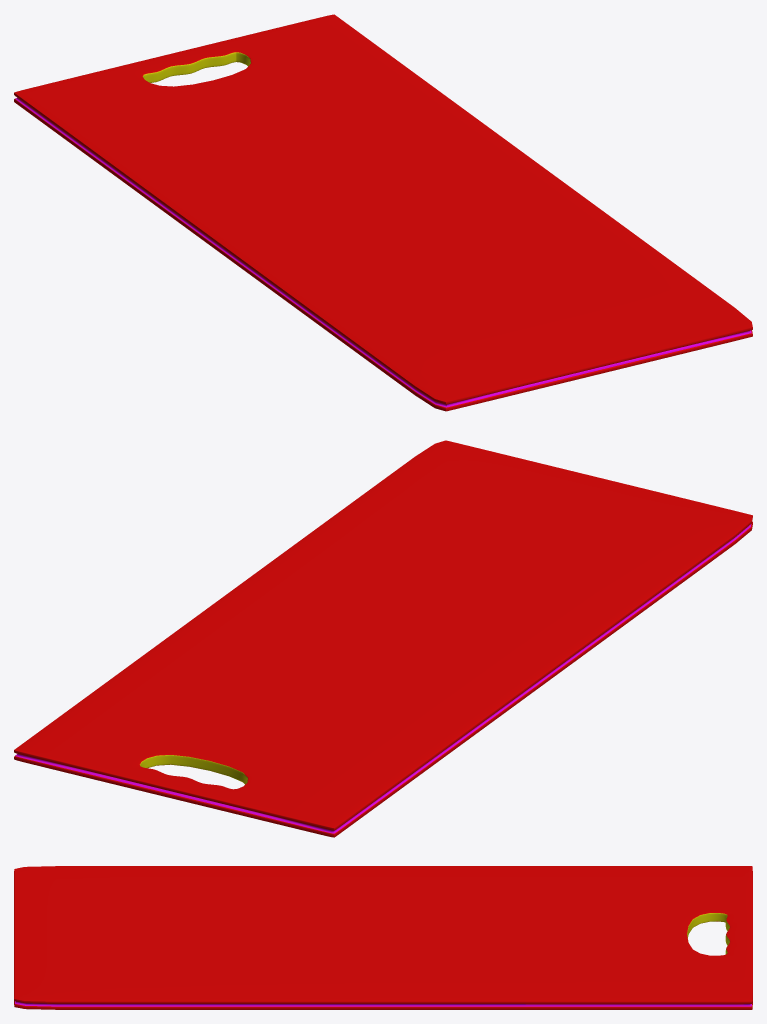
Rendered from Engineering_Mat.fbx.
3 renders of one model, top to bottom at view 1: azimuth 30°, elevation 25°; view 2: azimuth 150°, elevation 25°; view 3: azimuth 270°, elevation 25°, orthographic. The views are drawn at different scales.
Visible parts, largest first — view 1: Engineering_Mat; view 2: Engineering_Mat; view 3: Engineering_Mat.
Part boxes in pixels (x1=…): Engineering_Mat: x1=14, y1=14, x2=752, y2=411; Engineering_Mat: x1=14, y1=440, x2=752, y2=837; Engineering_Mat: x1=14, y1=866, x2=752, y2=1009.
Bounding box in the file's own units: 74.82 × 2.37 × 172.
